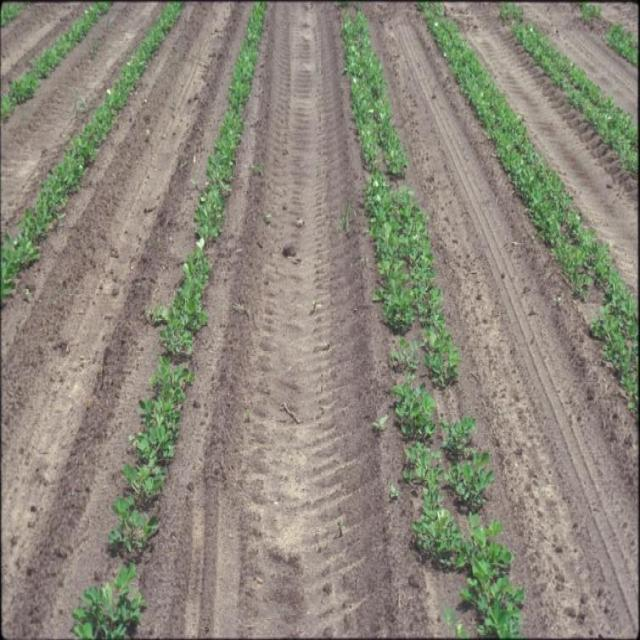row: (134, 0, 426, 640), (368, 0, 640, 640), (0, 0, 254, 640), (450, 2, 639, 296), (0, 2, 165, 244), (524, 2, 639, 126), (1, 2, 90, 95), (597, 1, 639, 41)
